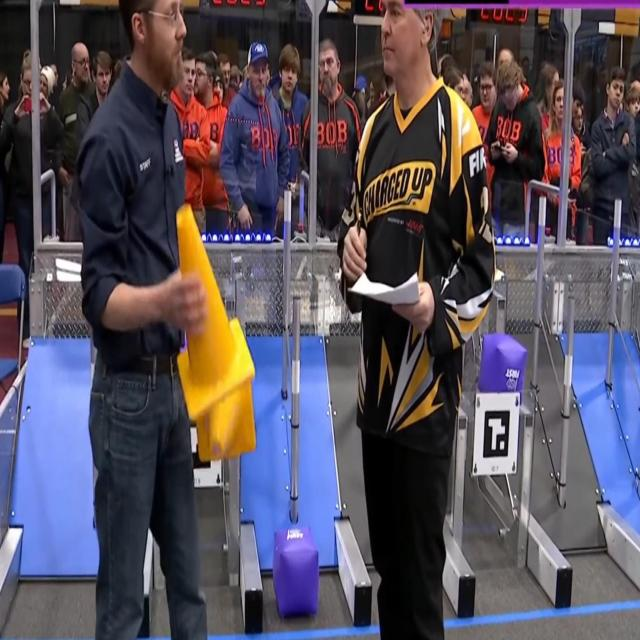frc_cone: (174, 203, 255, 417), (194, 345, 257, 464)
frc_cube: (272, 526, 320, 618), (479, 332, 525, 399)
